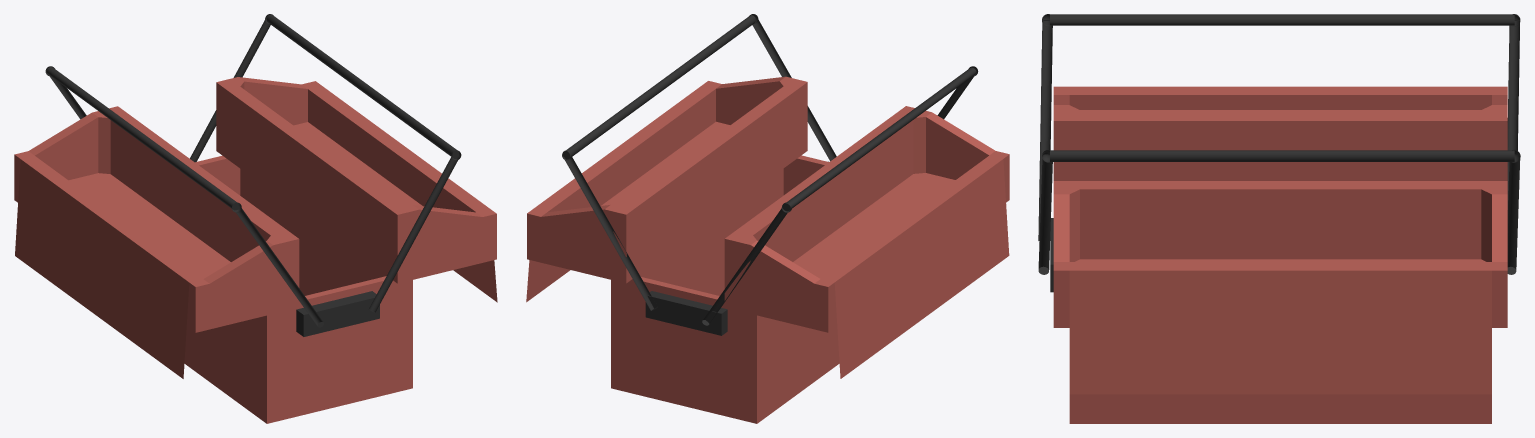
Rendered from cajaHerramientas.fbx.
3 views of the same model, side by side, from view 1: azimuth 30°, elevation 25°; view 2: azimuth 150°, elevation 25°; view 3: azimuth 270°, elevation 25° (orthographic). The views are drawn at different scales.
Visible parts, largest first — view 1: Cube.001; view 2: Cube.001; view 3: Cube.001.
Boxes of the visible parts, box(x1,y1,x2,y2) form: Cube.001: box(14, 14, 497, 423); Cube.001: box(526, 14, 1009, 423); Cube.001: box(1038, 14, 1520, 423).
Size of the model in its own units: 215 by 155 by 228.
